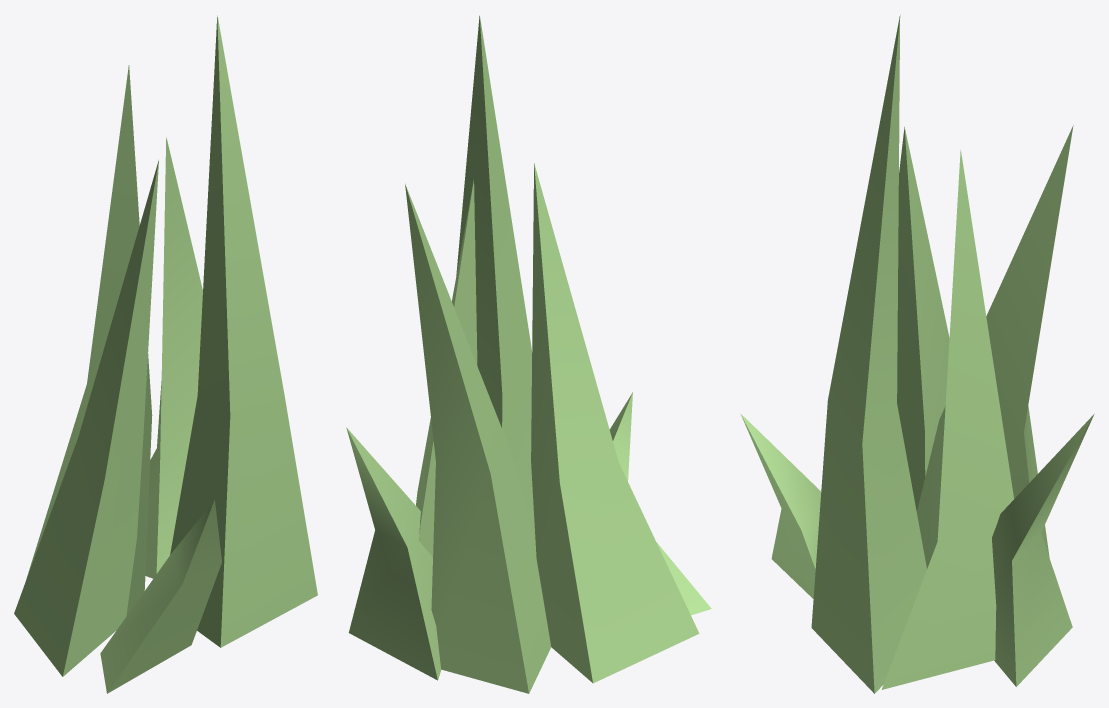
Rendered from grasss.fbx.
The picture shows the model from 3 angles, left to right: view 1: azimuth 30°, elevation 25°; view 2: azimuth 150°, elevation 25°; view 3: azimuth 270°, elevation 25°; orthographic projection. The views are drawn at different scales.
Parts seen in each view (by area): view 1: pCone1, pCone4, pCone3, pCone5, pCone2, pCone6; view 2: pCone4, pCone2, pCone1, pCone6, pCone3, pCone5; view 3: pCone1, pCone3, pCone2, pCone6, pCone4, pCone5.
Boxes of the visible parts, box(x1,y1,x2,y2) form: pCone1: box(170, 15, 317, 647); pCone4: box(14, 160, 158, 676); pCone3: box(156, 137, 202, 573); pCone5: box(100, 500, 221, 693); pCone2: box(27, 65, 152, 616); pCone6: box(145, 381, 161, 578); pCone4: box(531, 163, 699, 683); pCone2: box(405, 184, 551, 693); pCone1: box(456, 15, 535, 538); pCone6: box(346, 427, 441, 680); pCone3: box(416, 180, 477, 556); pCone5: box(609, 392, 711, 615); pCone1: box(811, 14, 926, 693); pCone3: box(881, 149, 1013, 689); pCone2: box(917, 125, 1073, 568); pCone6: box(992, 414, 1094, 686); pCone4: box(897, 127, 949, 511); pCone5: box(740, 413, 821, 598).
Size of the model in its own units: 0.3411 by 0.7067 by 0.3568.
1 material, 1 textured.
